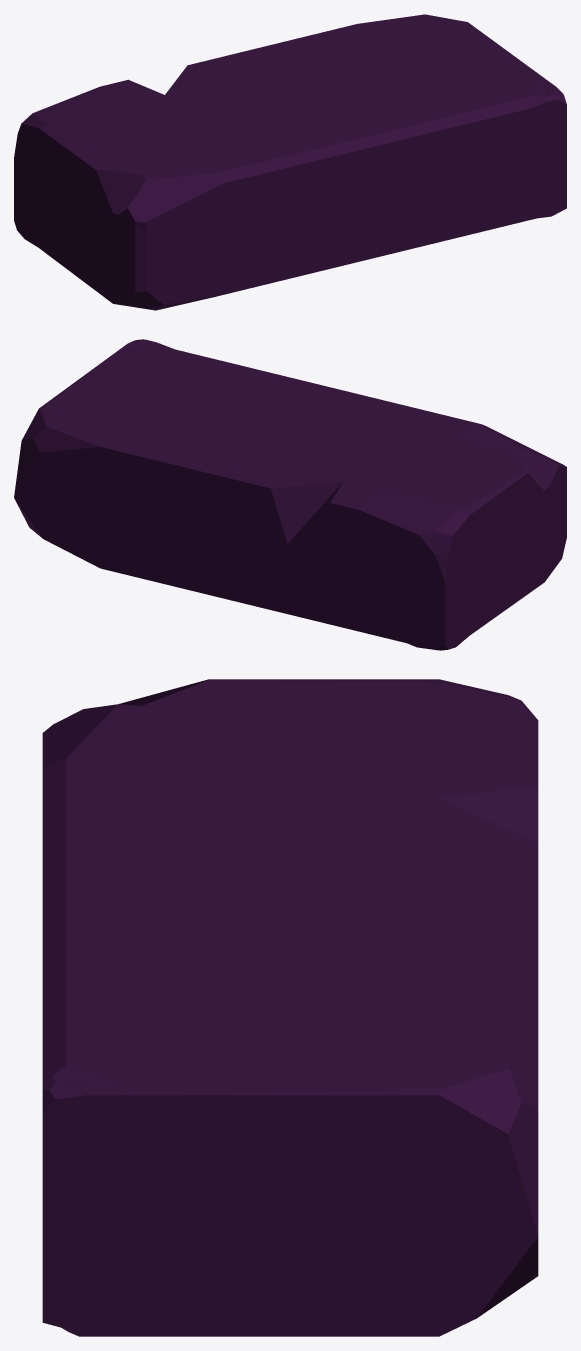
The model's file is ingot.fbx.
3 views of the same model, one above another, from view 1: azimuth 30°, elevation 25°; view 2: azimuth 150°, elevation 25°; view 3: azimuth 270°, elevation 25° (orthographic). The views are drawn at different scales.
Visible parts, largest first — view 1: ingot; view 2: ingot; view 3: ingot.
Boxes of the visible parts, box(x1,y1,x2,y2) form: ingot: box(14, 14, 566, 310); ingot: box(14, 339, 566, 650); ingot: box(42, 679, 538, 1336).
Bounding box in the file's own units: 0.2723 × 0.1362 × 0.075.
